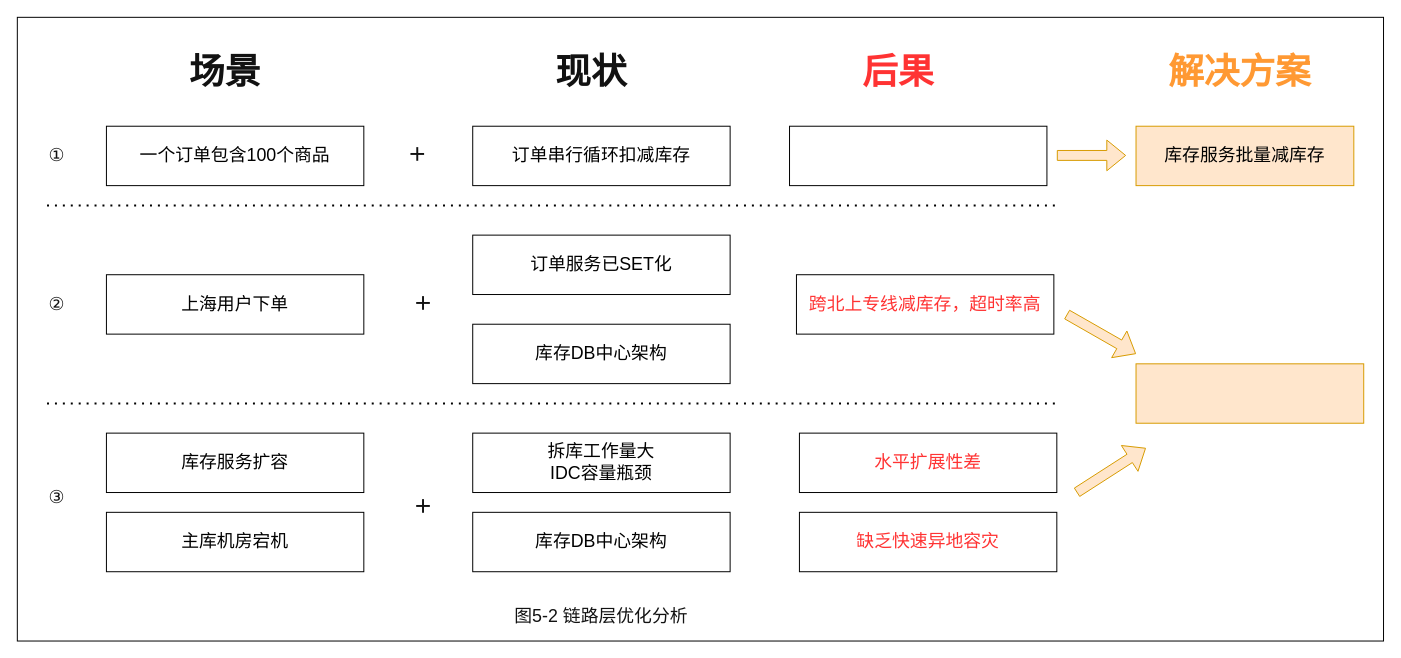
The diagram is 1401 pixels wide and 658 high, and some of its shapes have lost their labels. Here are the shapes that lost their labels. From the top down, the centre of each, then its label:
(918,155): 超时率高，下单成功率低
(1249,393): 库存服务SET化
